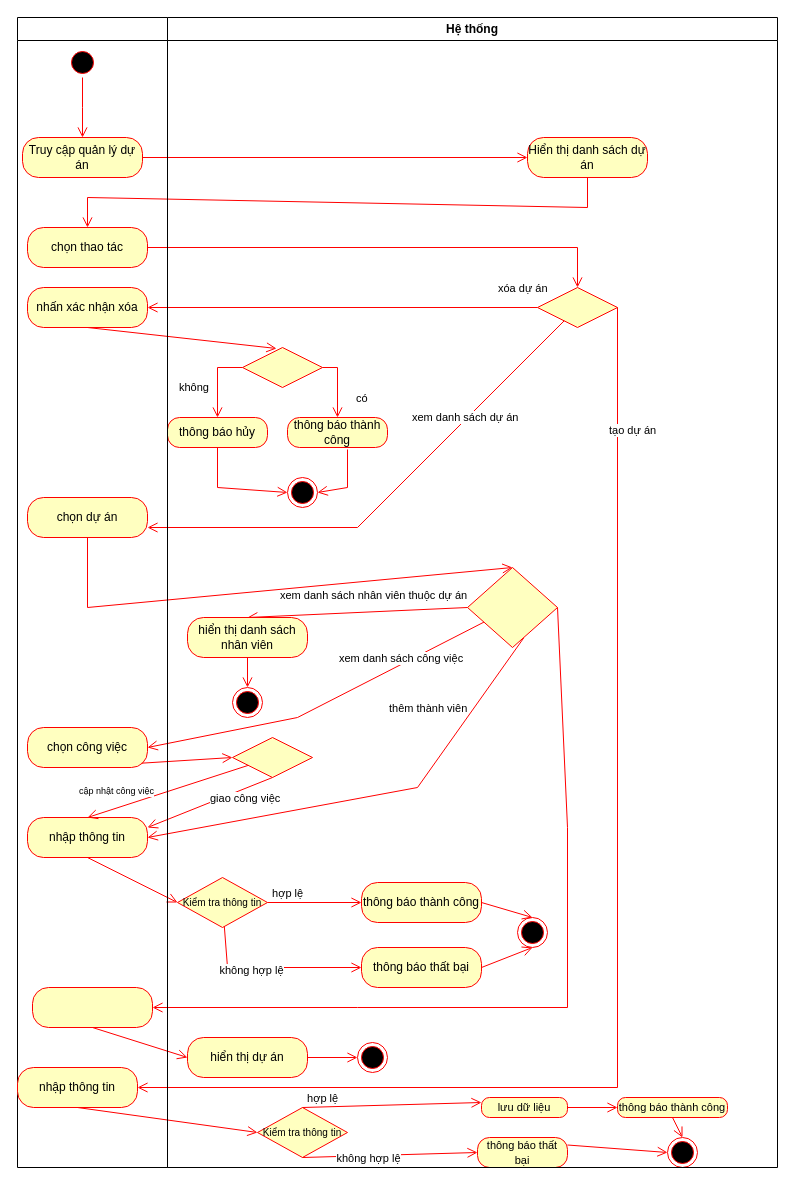
The diagram is 795 pixels wide and 1185 high, and some of its shapes have lost their labels. The box of each missing label's shape, as (x1, y1, x2, y2) in pixels:
Người dùng: (16, 16, 168, 1168)
nhập mã dự án: (32, 986, 152, 1028)
